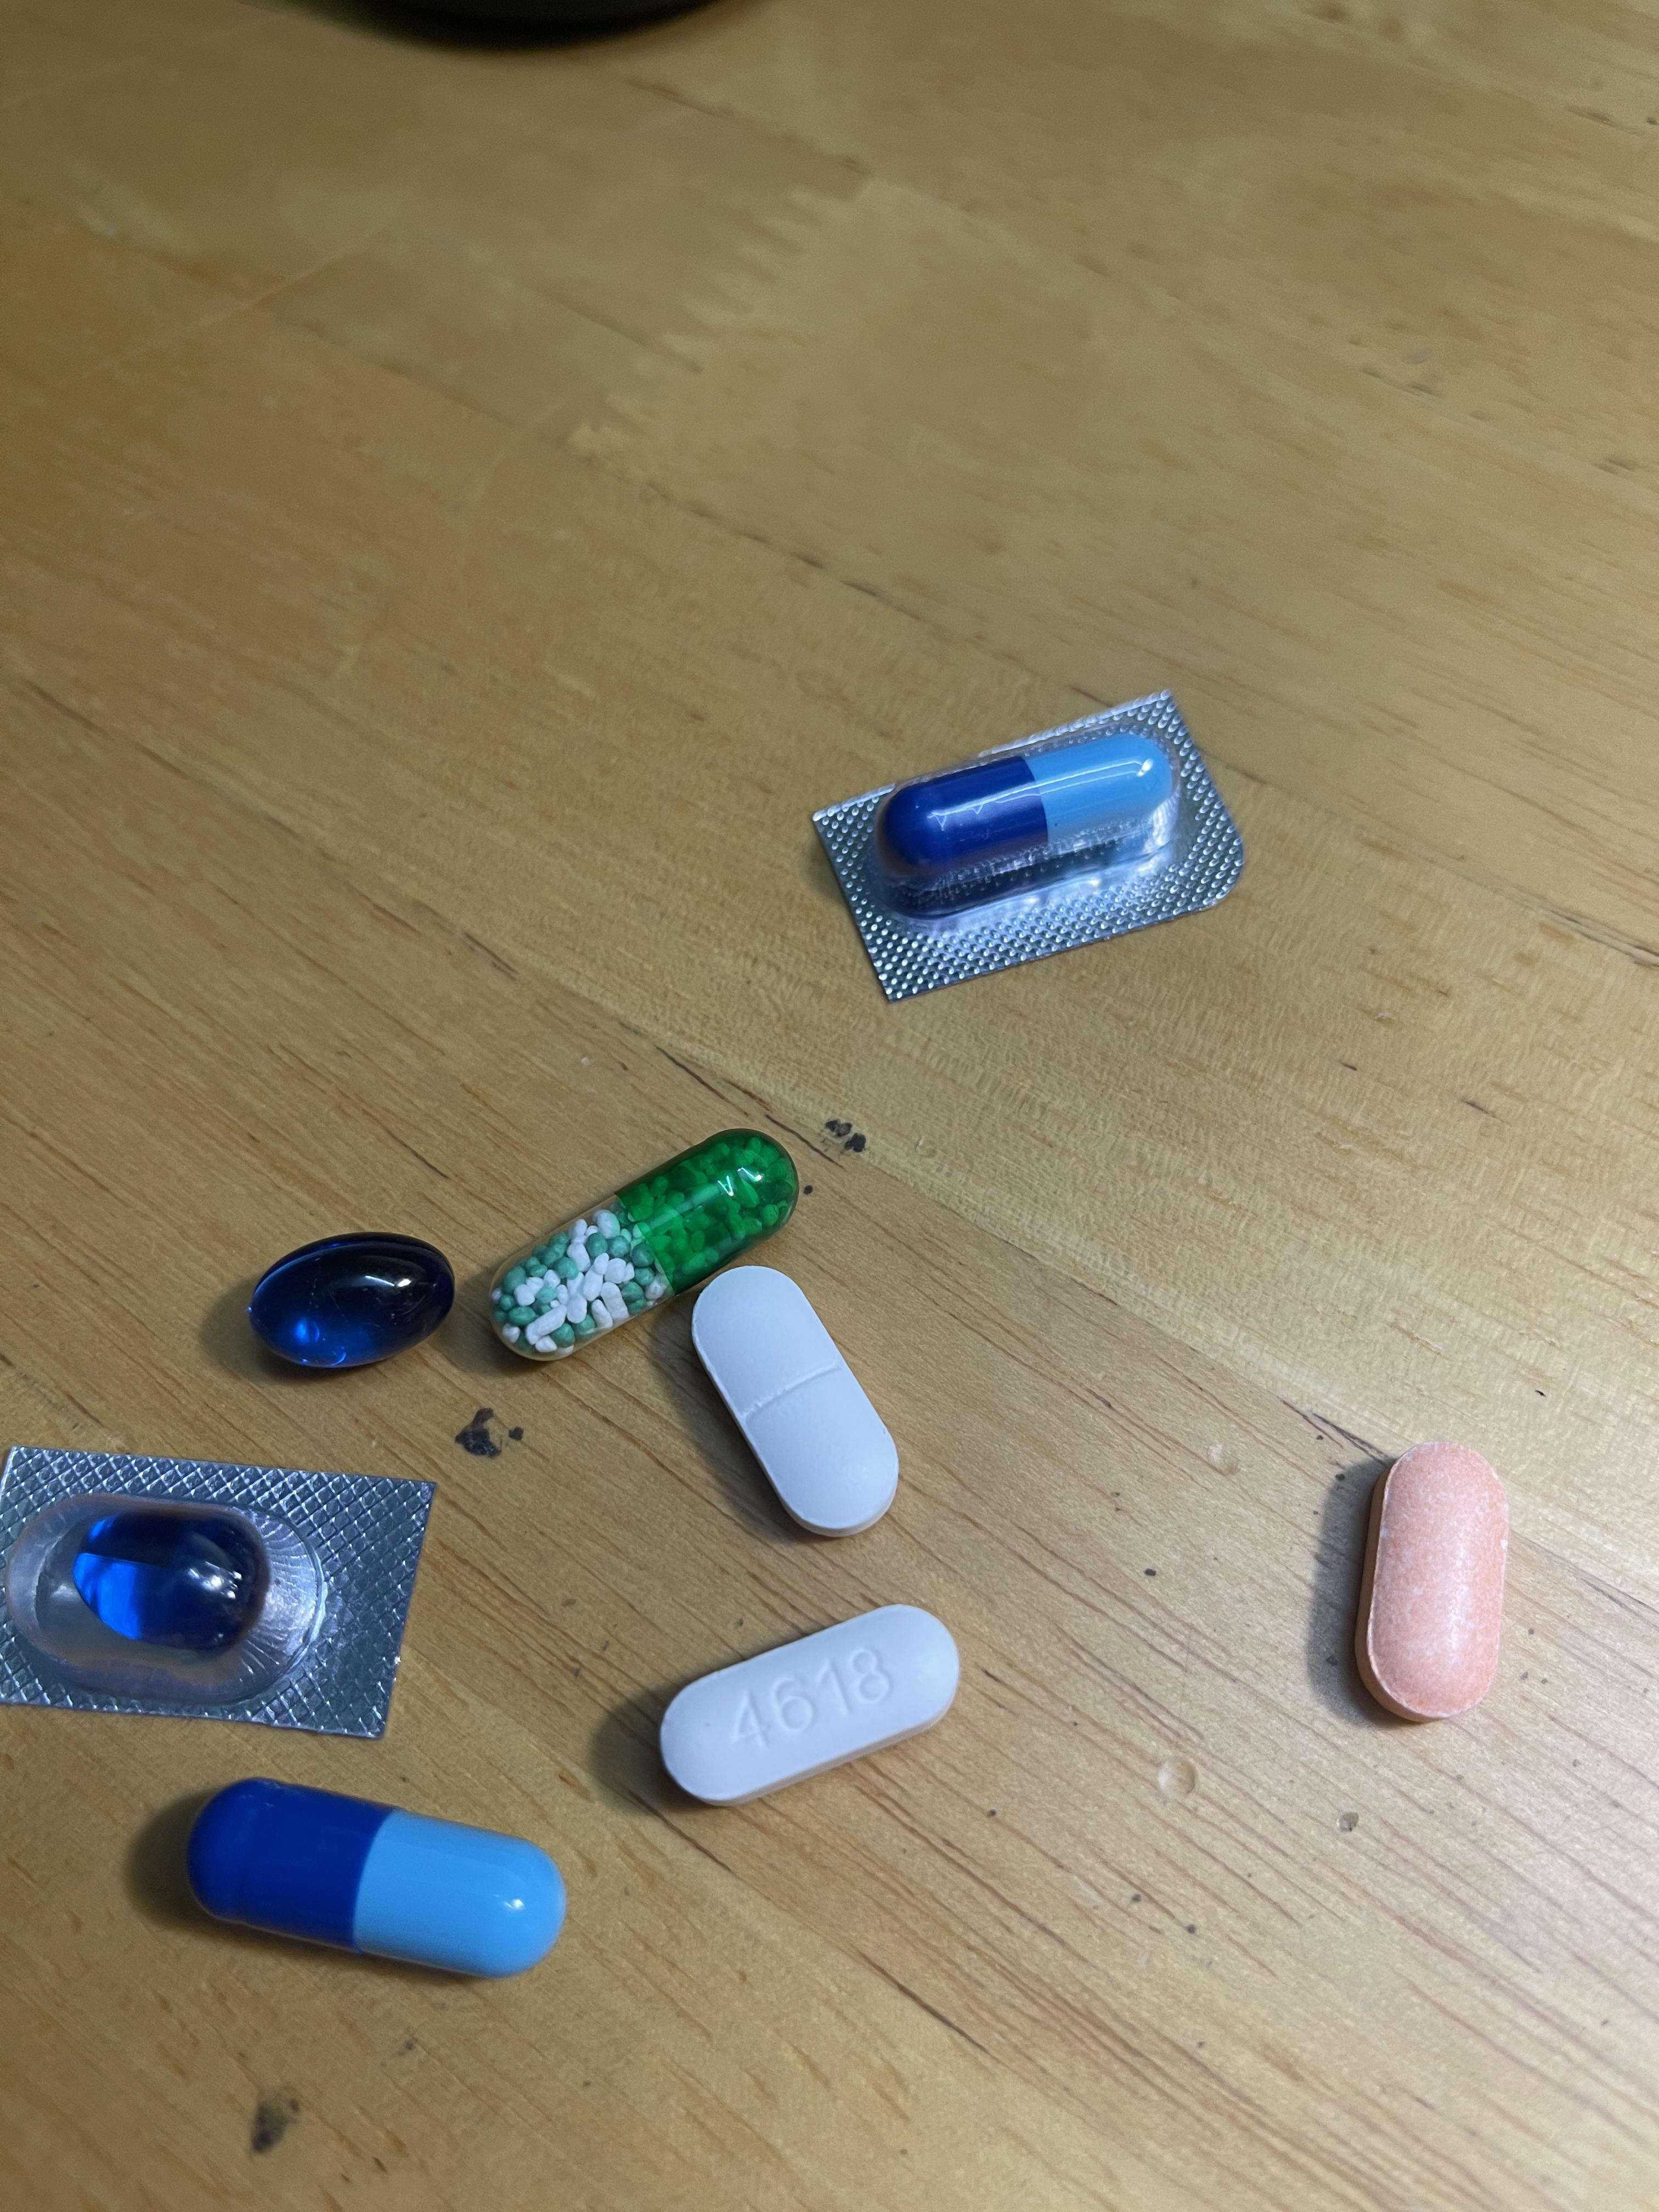Lincomyxin_500mg: (244, 1231, 458, 1374), (71, 1507, 274, 1656)
Loratadine_10mg: (1359, 1442, 1509, 1724)
Paracetamol_350mg: (690, 1263, 897, 1538)
Paracetamol_500mg: (667, 1602, 953, 1794)
Paracetamol_650mg: (495, 1132, 795, 1357)
pill: (190, 1804, 558, 1973), (884, 735, 1173, 899)
